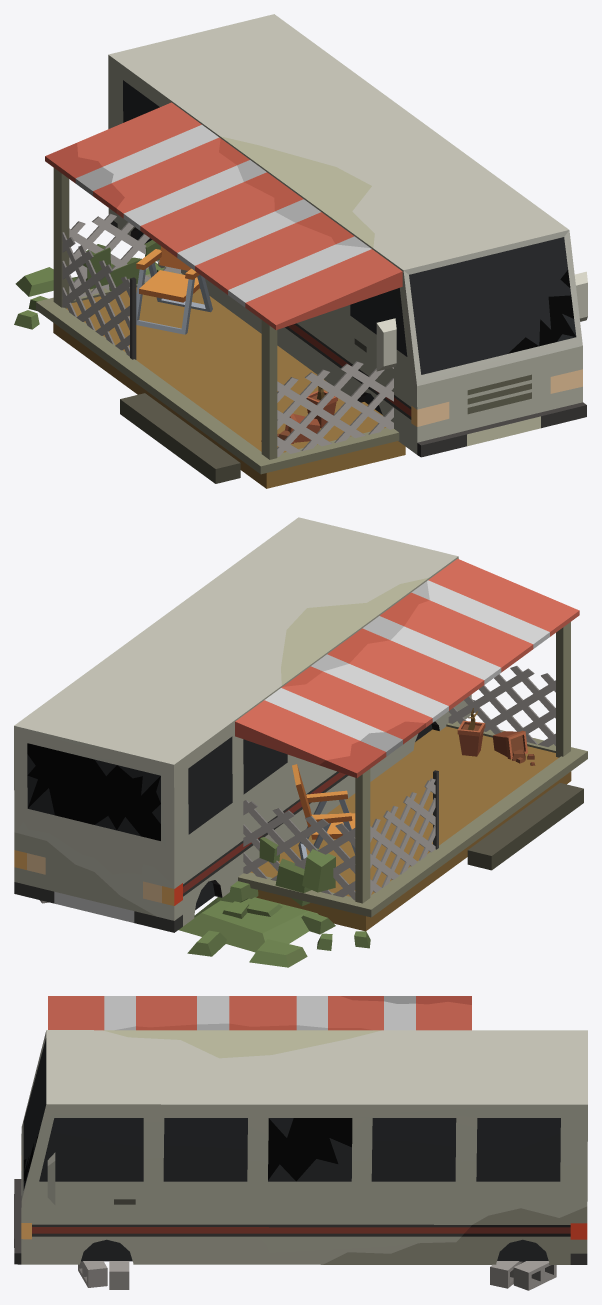
File: SA_Bld_TrailerRV_Damaged_01.gltf
3 renders of one model, top to bottom at view 1: azimuth 30°, elevation 25°; view 2: azimuth 150°, elevation 25°; view 3: azimuth 270°, elevation 25°, orthographic. The views are drawn at different scales.
Parts seen in each view (by area): view 1: SA_Bld_TrailerRV_Damaged_01; view 2: SA_Bld_TrailerRV_Damaged_01; view 3: SA_Bld_TrailerRV_Damaged_01.
Part boxes in pixels (box(x1,y1,x2,y2)): SA_Bld_TrailerRV_Damaged_01: box(14, 14, 587, 488); SA_Bld_TrailerRV_Damaged_01: box(14, 517, 587, 967); SA_Bld_TrailerRV_Damaged_01: box(14, 996, 587, 1290).
Bounding box in the file's own units: 7.22 × 3.9 × 11.27.
Materials: 1 (1 with a texture image).
